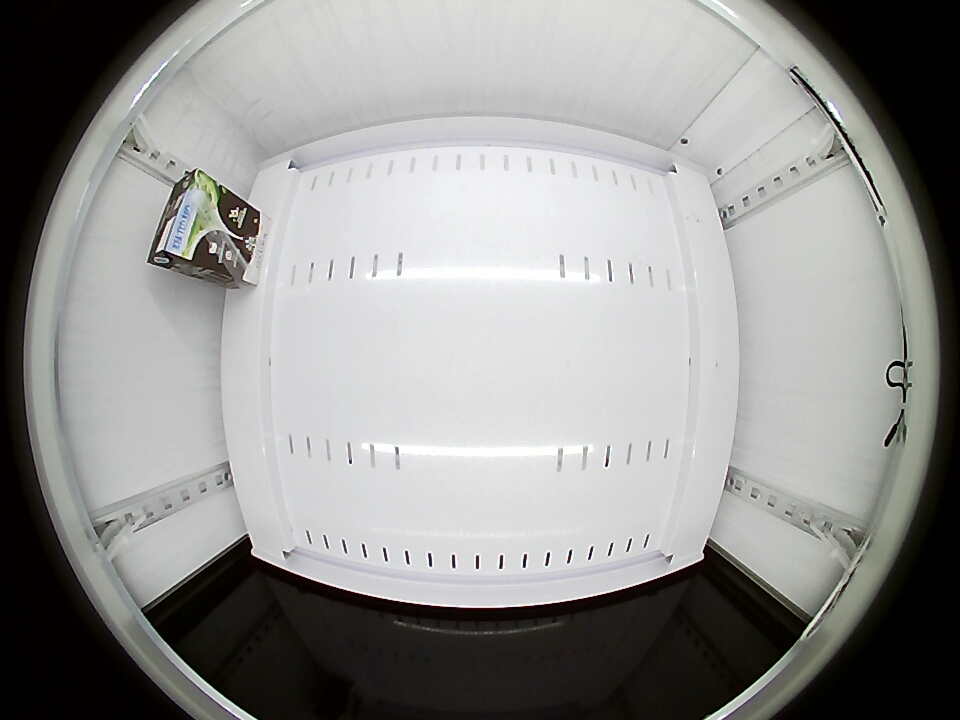weitanai2: (148, 169, 223, 273)
